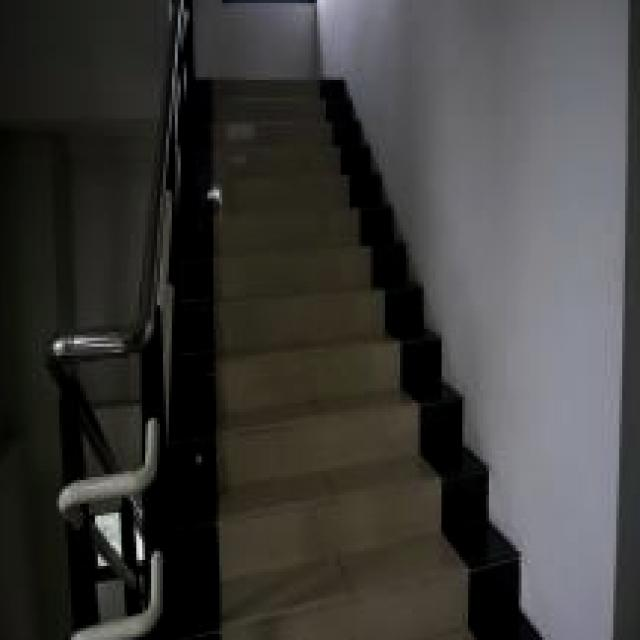upstair: (185, 117, 448, 638)
